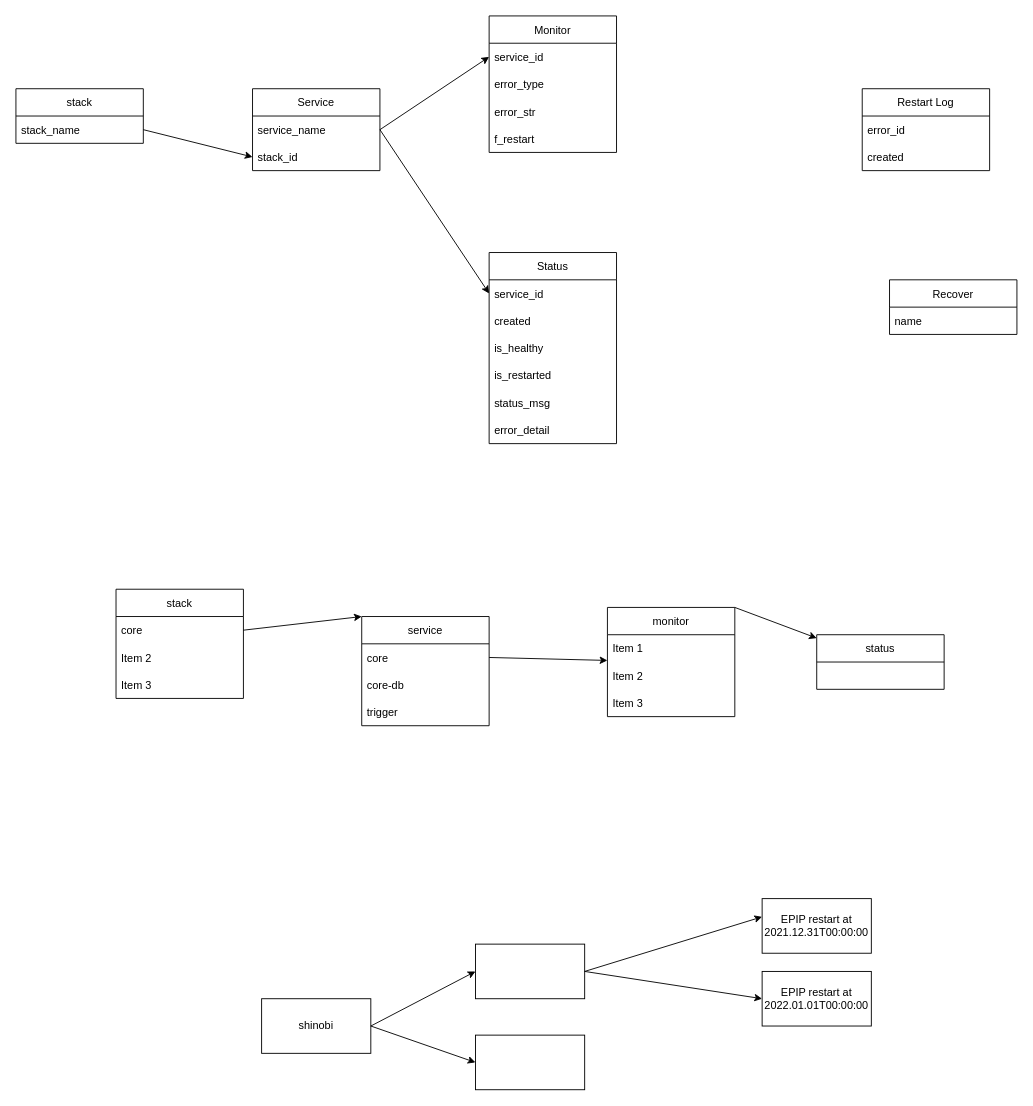
The diagram is 1033 pixels wide and 1106 high, and some of its shapes have lost their labels. Here are the shapes that lost their labels. From the top down, the centre of each, then its label:
[530,971]: EPIP
[530,1062]: Stream Error
